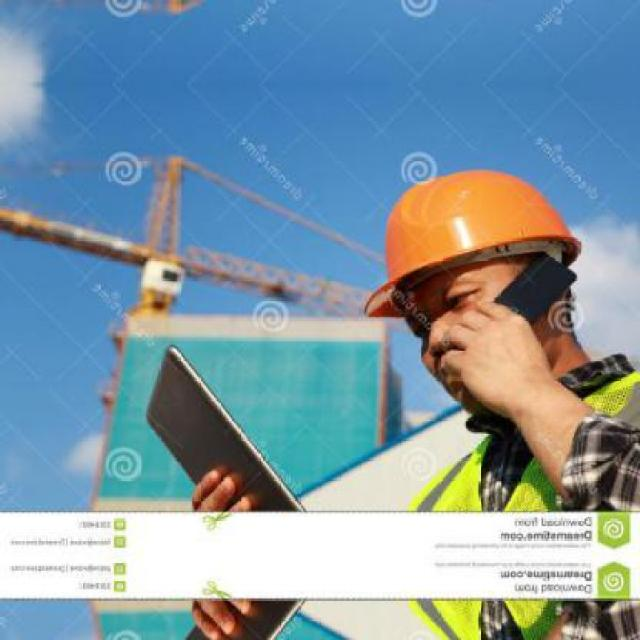Reflective-Jacket: (403, 360, 639, 514)
Safety-Helmet: (362, 163, 589, 315)
